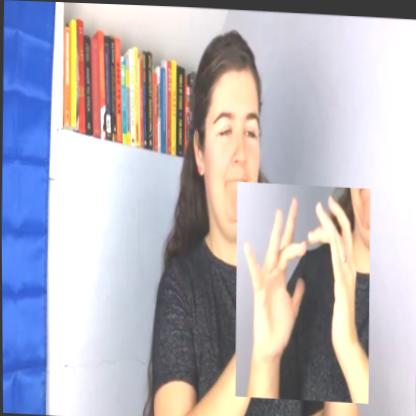Internet: (233, 179, 371, 401)
